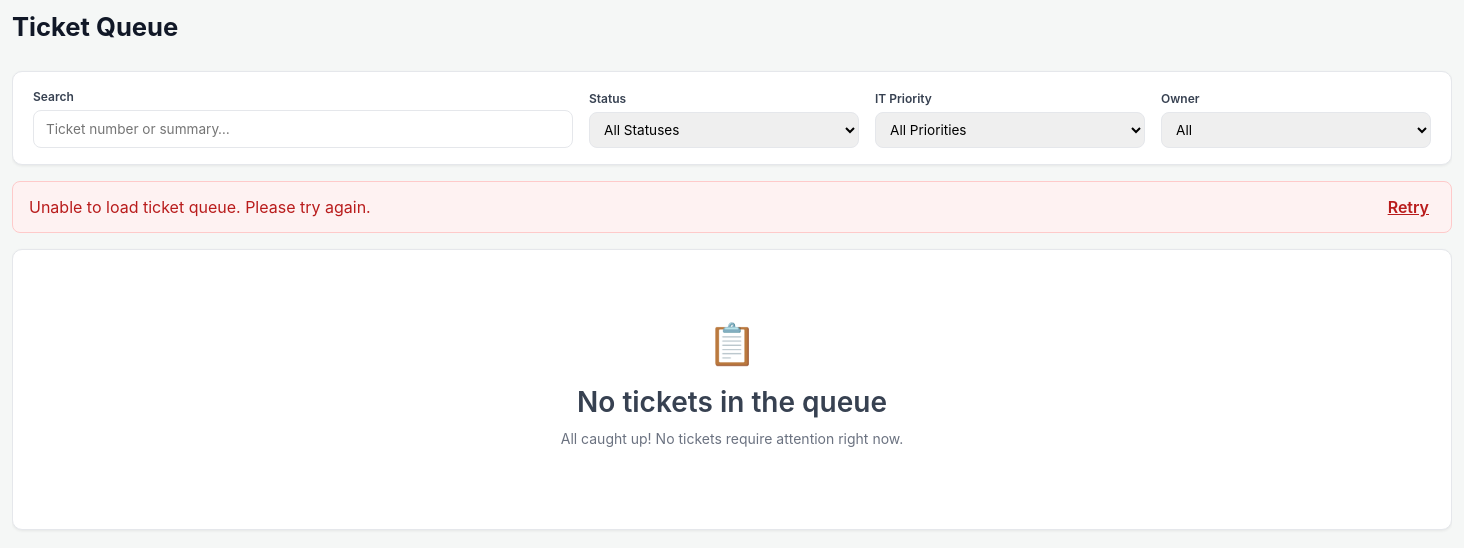
Scenario: UI-12 — Advanced API Error handling & Recovery › Retry button recovers and displays tickets once API becomes available
Expected: the text "Unable to load ticket queue. Please try again." is shown, [29, 195, 371, 219]
# User clicks Retry
Click the button "Retry" at (1408, 207), box [1382, 194, 1435, 220]
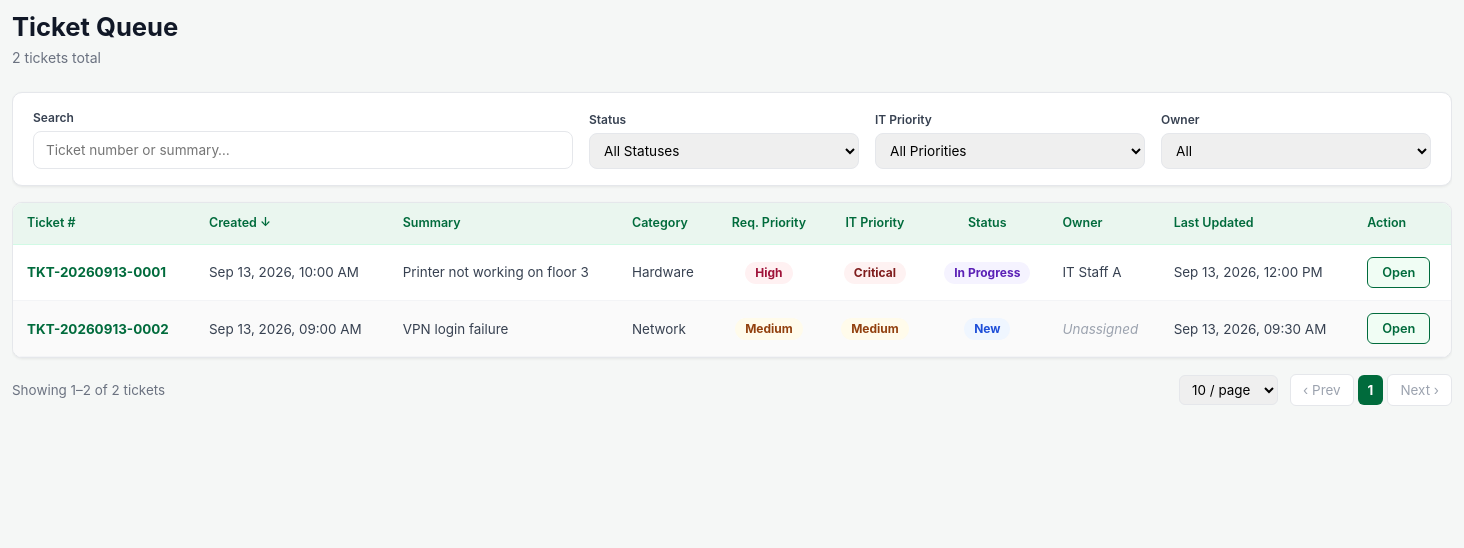
Expected: the text "TKT-20260913-0001" is shown, [13, 244, 195, 301]
Expected: the text "Unable to load ticket queue" is gone
